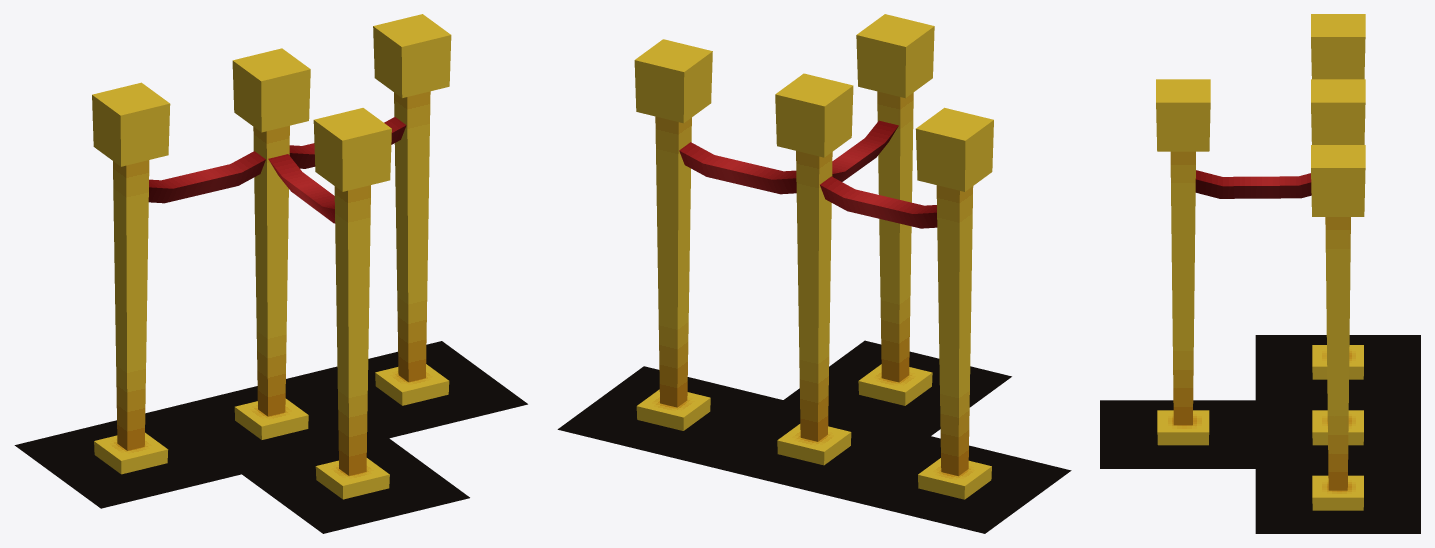
The model's file is t-section_velvet_rope.FBX.
3 views of the same model, side by side, from view 1: azimuth 30°, elevation 25°; view 2: azimuth 150°, elevation 25°; view 3: azimuth 270°, elevation 25° (orthographic). The views are drawn at different scales.
Parts seen in each view (by area): view 1: t-section_velvet_rope, t-section_velvet_rope_soft_shadow; view 2: t-section_velvet_rope, t-section_velvet_rope_soft_shadow; view 3: t-section_velvet_rope, t-section_velvet_rope_soft_shadow.
Part boxes in pixels (left/top/right/bottom): t-section_velvet_rope: left=92, top=14, right=451, bottom=499; t-section_velvet_rope_soft_shadow: left=14, top=341, right=527, bottom=533; t-section_velvet_rope: left=634, top=14, right=993, bottom=499; t-section_velvet_rope_soft_shadow: left=557, top=340, right=1071, bottom=533; t-section_velvet_rope: left=1156, top=14, right=1365, bottom=510; t-section_velvet_rope_soft_shadow: left=1100, top=335, right=1420, bottom=533.
Size of the model in its own units: 1293 by 1050 by 880.
